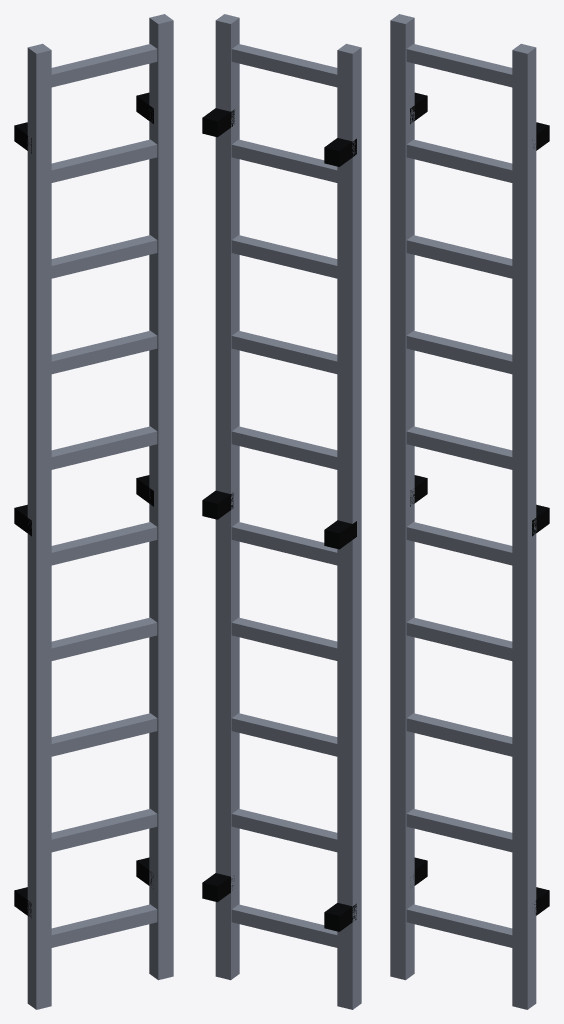
The model's file is SM_Ladder_3m.glb.
3 views of the same model, side by side, from view 1: azimuth 30°, elevation 25°; view 2: azimuth 150°, elevation 25°; view 3: azimuth 330°, elevation 25° (orthographic).
Parts seen in each view (by area): view 1: SM_Ladder_3m-col; view 2: SM_Ladder_3m-col; view 3: SM_Ladder_3m-col.
Boxes of the visible parts, bbox=[...] form: SM_Ladder_3m-col: bbox=[14, 14, 173, 1009]; SM_Ladder_3m-col: bbox=[202, 14, 361, 1009]; SM_Ladder_3m-col: bbox=[390, 14, 549, 1009].
Bounding box in the file's own units: 0.45 × 3 × 0.125.
